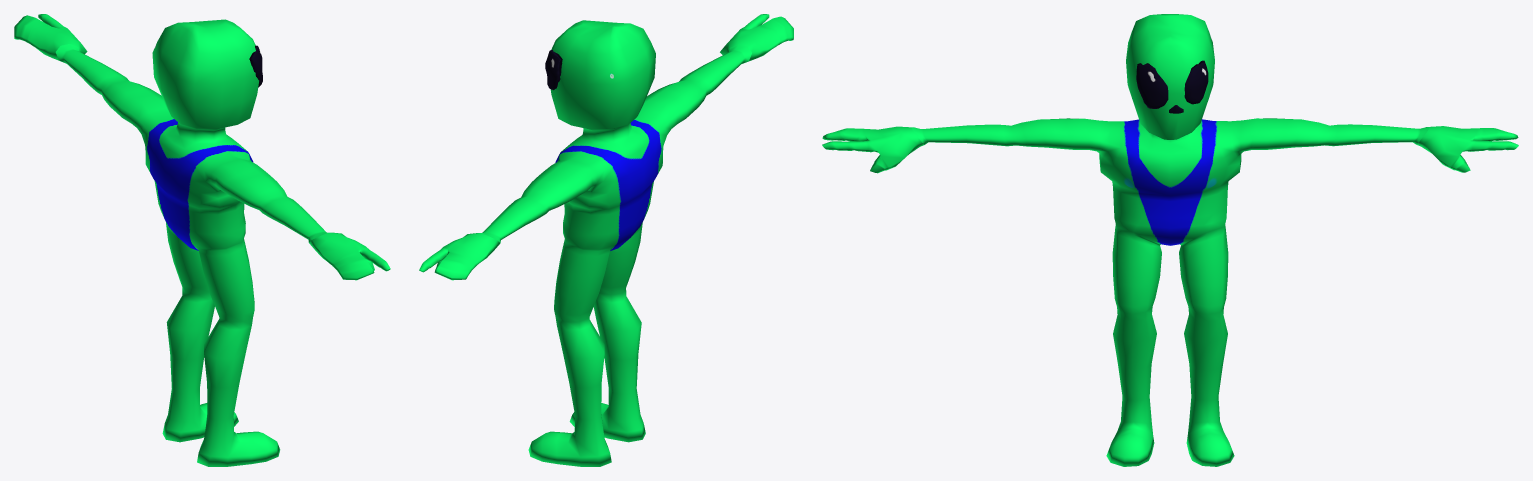
Rendered from scene_zH1dny6pkY.glb.
The picture shows the model from 3 angles, left to right: view 1: azimuth 30°, elevation 25°; view 2: azimuth 150°, elevation 25°; view 3: azimuth 270°, elevation 25°; orthographic projection.
Visible parts, largest first — view 1: mesh_char_078_1; view 2: mesh_char_078_1; view 3: mesh_char_078_1.
Boxes of the visible parts, <box> form: mesh_char_078_1: <box>14,14,390,466</box>; mesh_char_078_1: <box>419,14,793,466</box>; mesh_char_078_1: <box>822,14,1518,466</box>.
Size of the model in its own units: 0.756 by 3.29 by 4.93.
1 material, 1 textured.
